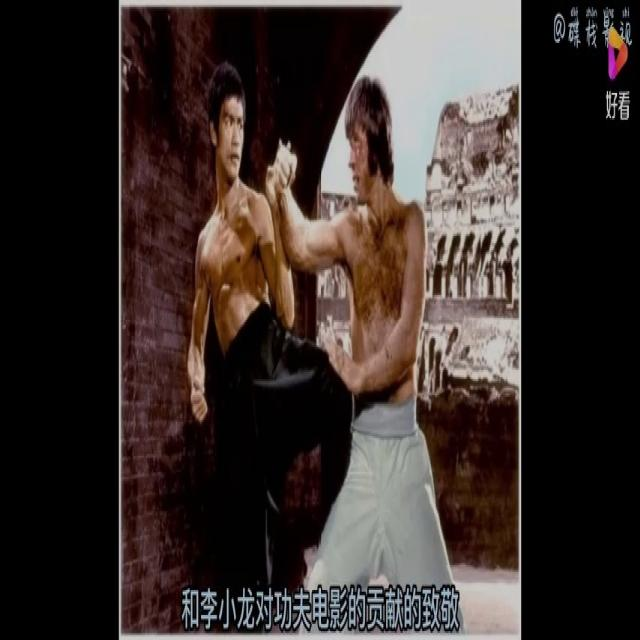fight: (190, 59, 460, 640)
